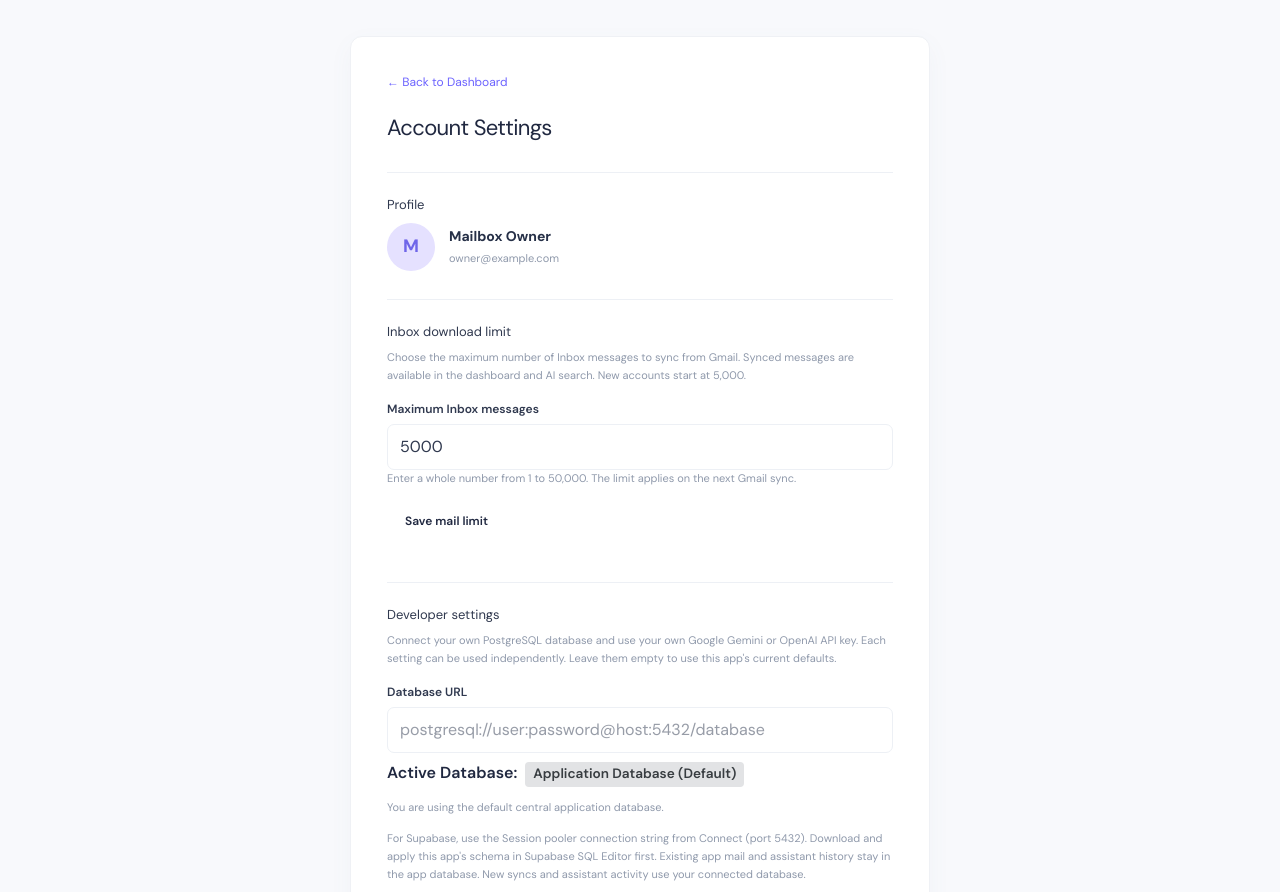
Scenario: shows a success pop-up after the database is connected
The width and height of the screenshot is (1280, 892).
In the password field labelled "Database URL": (640, 730) [387,708,893,754], type "postgresql://owner:secret@db.example.com/mail"
(page scrolled)
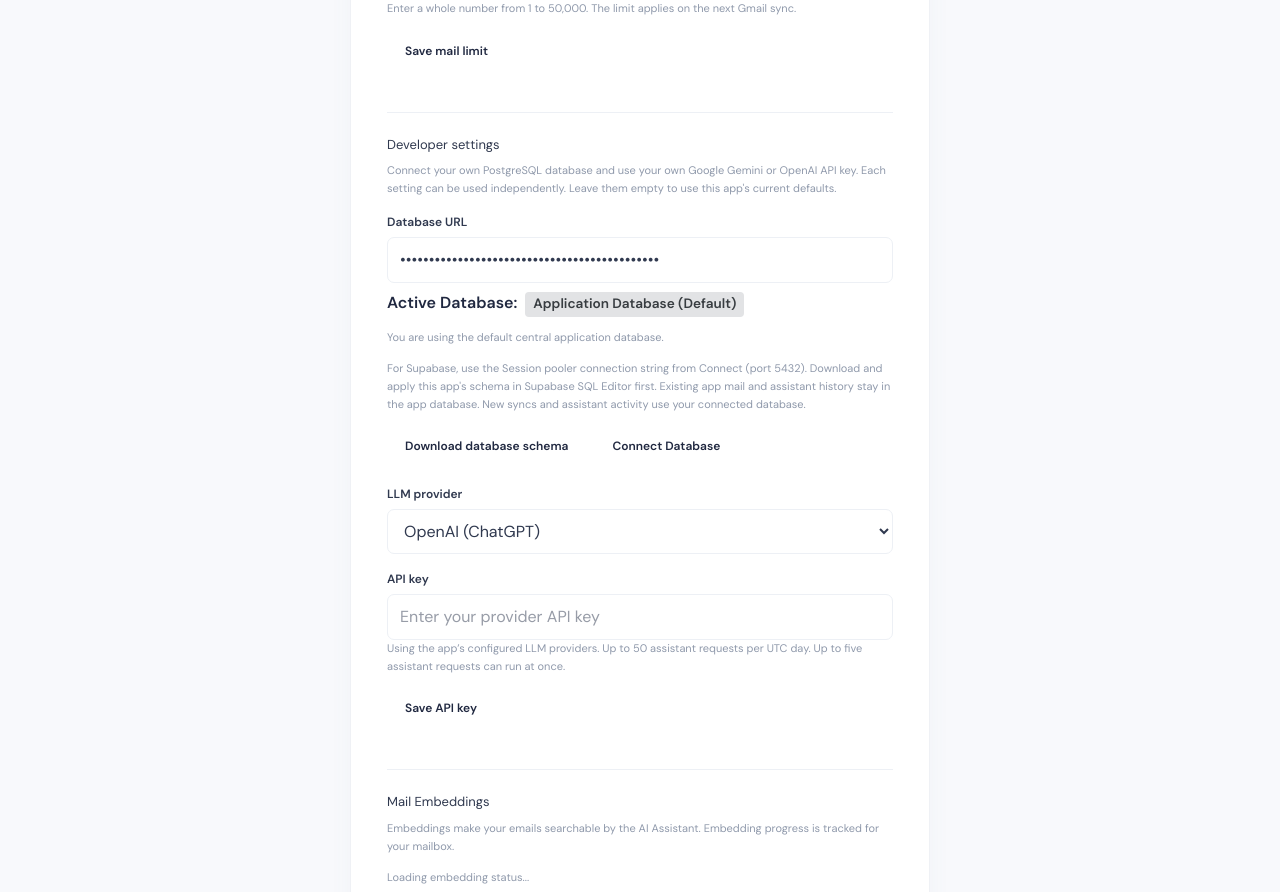
Click the button "Connect Database": (666, 446) [594,427,738,465]
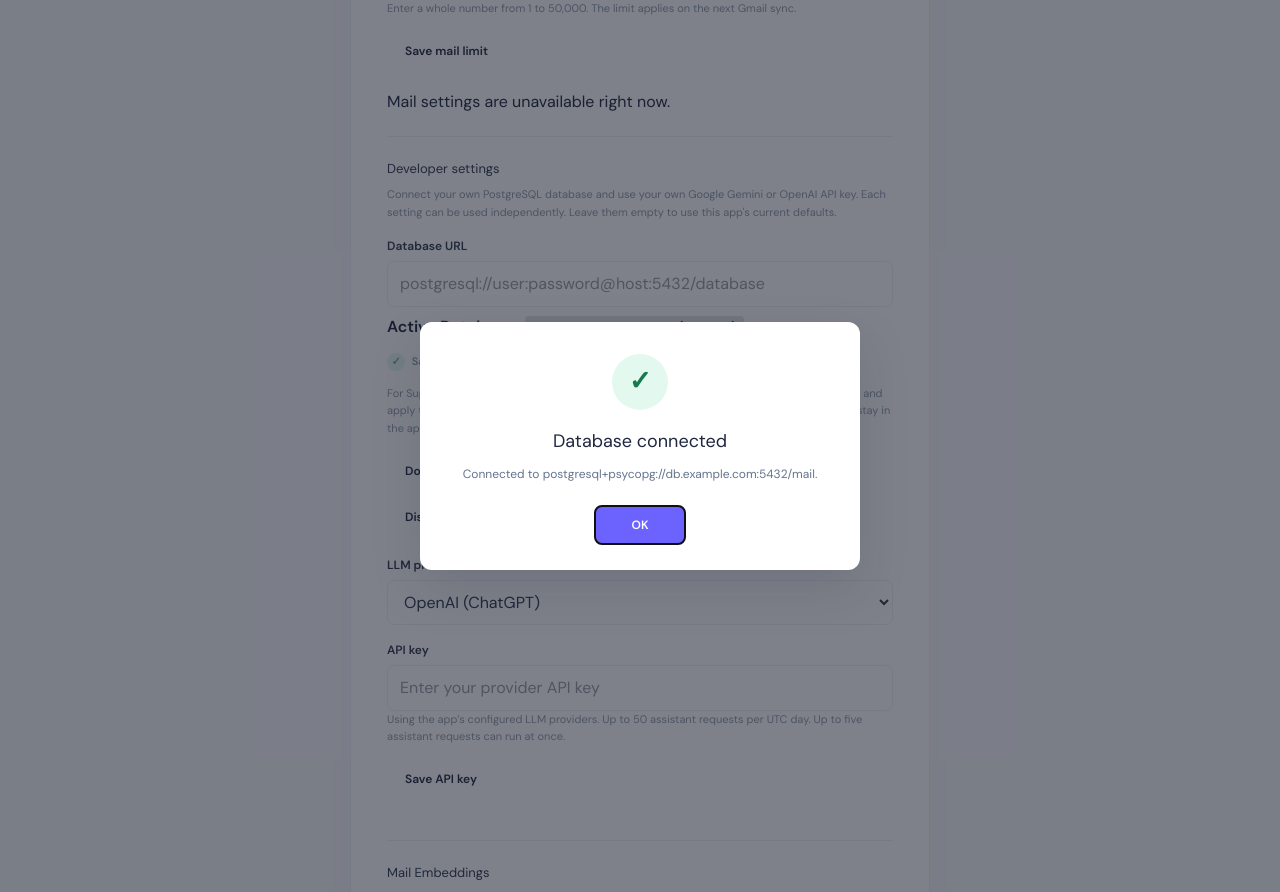
Check: the text "Connected to postgresql+psycopg://db.example.com:5432/mail." is shown, box [448,465,832,484]
Check: the message shows "Saved personal database: postgresql+psycopg://db.example.com:5432/mail", box [387,353,812,371]
Click the button "OK": (640, 525) [595,506,685,544]
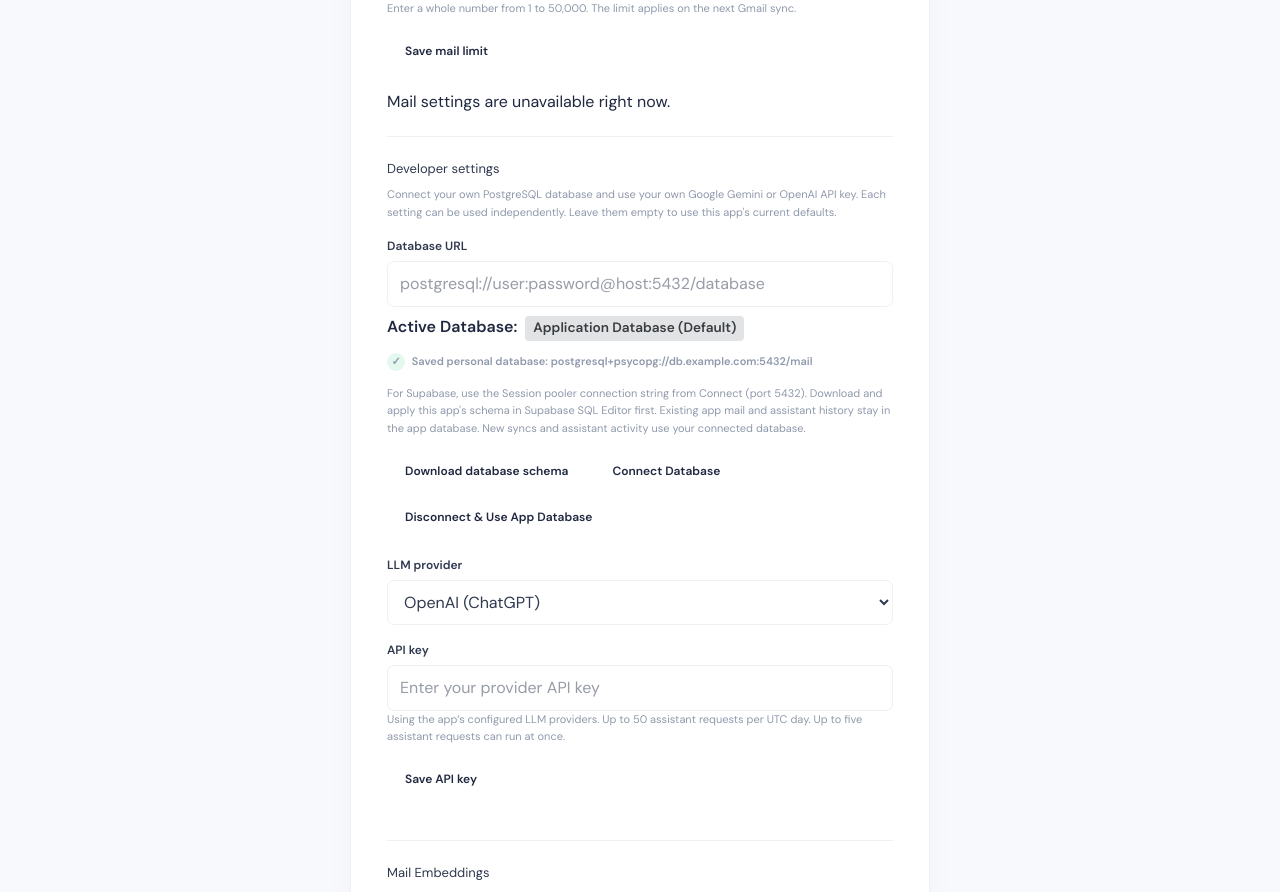
Check: the dialog is gone
